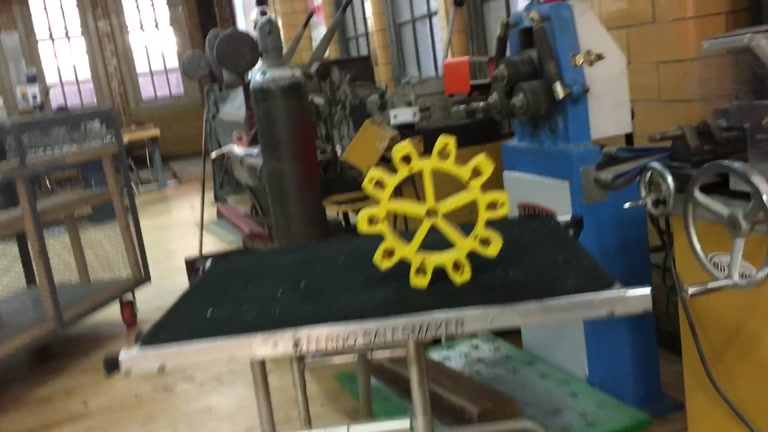gear: (356, 133, 509, 290)
